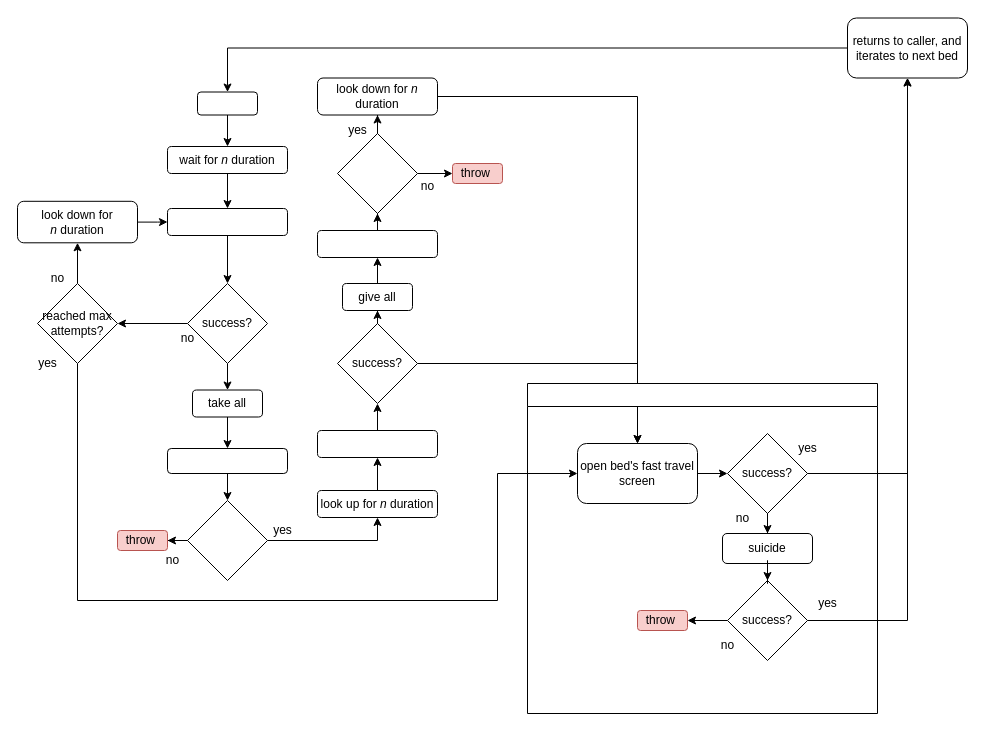
The diagram is 985 pixels wide and 731 high, and some of its shapes have lost their labels. The box of each missing label's shape, as (x1, y1, x2, y2) in pixels:
close crate inventory: (166, 448, 288, 474)
close vault inventory: (316, 230, 438, 258)
Exit Crate Protocol: (526, 382, 878, 714)
inventory closed?: (186, 500, 268, 580)
open crate inventory: (166, 208, 288, 236)
open vault inventory: (316, 430, 438, 458)
spawn: (196, 91, 258, 115)
success: (336, 132, 418, 214)
